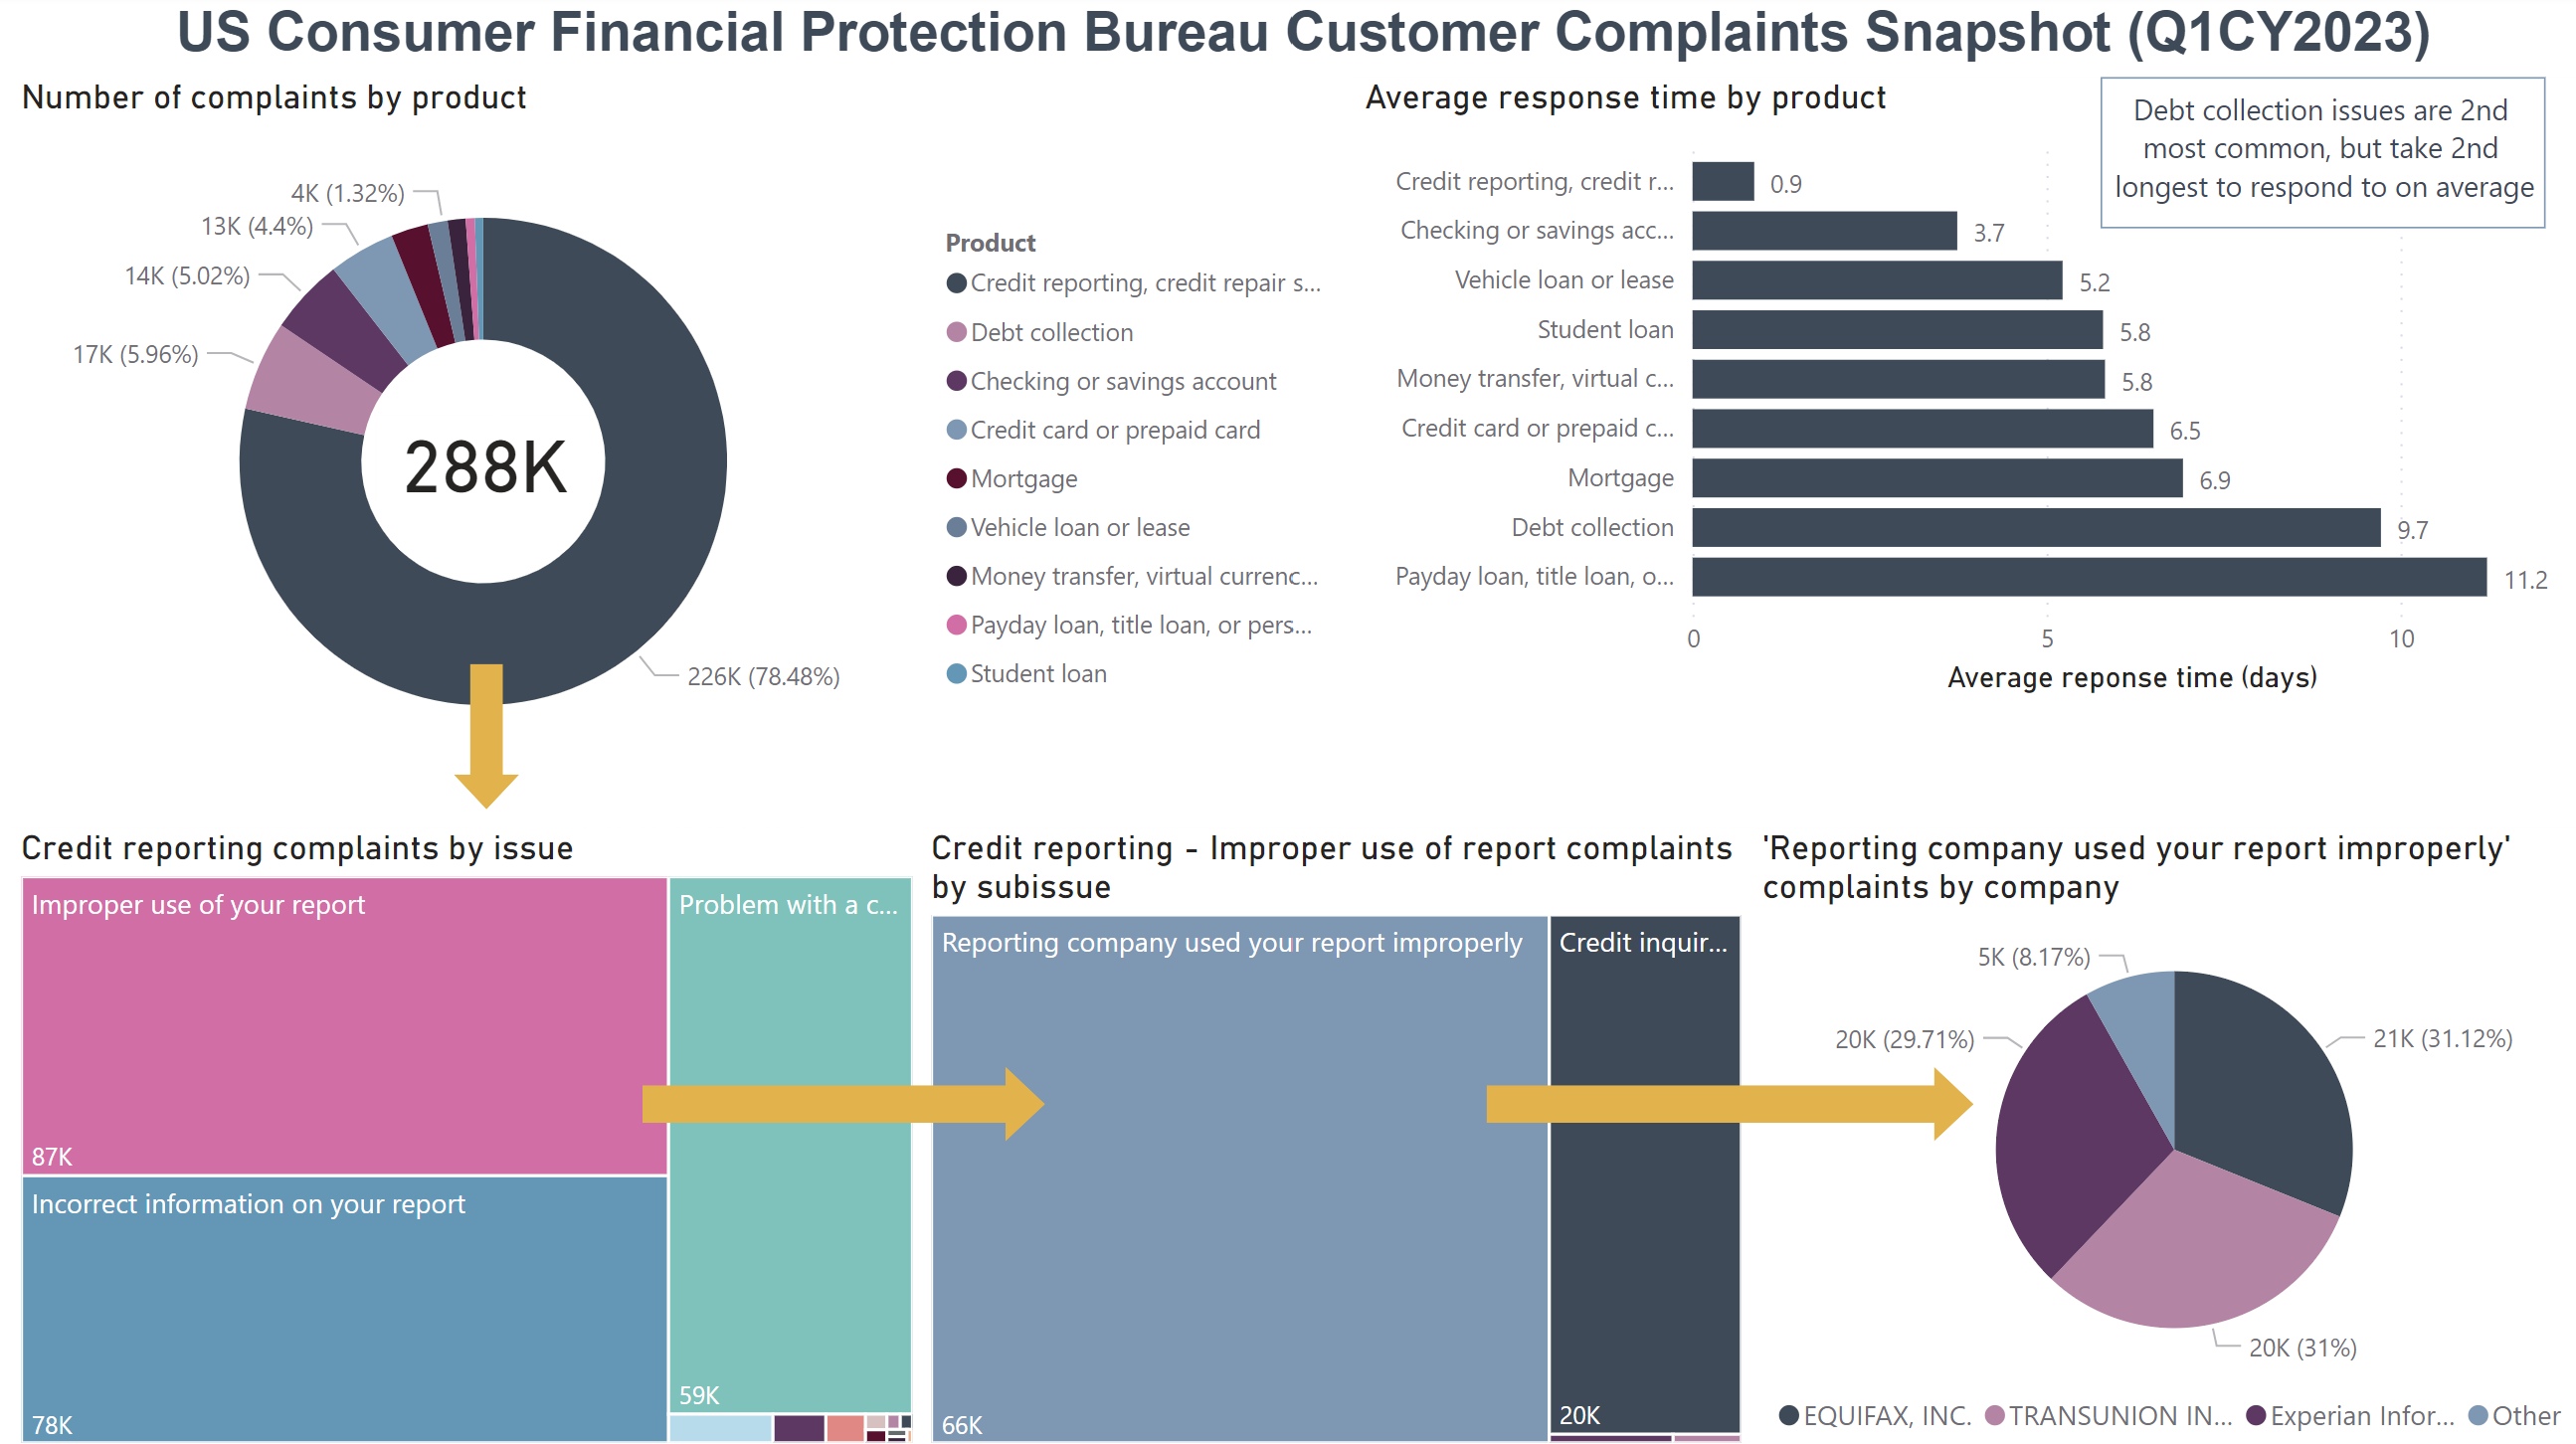

The page's visual inventory and layout, read from the dashboard file:
{"tool":"powerbi","page":{"name":"Page 1","canvas":[1280,720],"ordinal":0},"visuals":[{"type":"donutChart","title":"Number of complaints by product","fields":{"Category":["complaints_by_product.product"],"Y":["Sum(complaints_by_product.num_complaints)"]},"box":[9.5,43.2,660.3,359.2],"z":0},{"type":"textbox","box":[9.5,0,1270.5,43.2],"z":1000},{"type":"card","fields":{"Values":["Sum(complaints_by_product.num_complaints)"]},"box":[189,209.3,106.7,43.2],"z":2000},{"type":"treemap","title":"Credit reporting complaints by issue","fields":{"Group":["creditreporting_complaints_byissue.issue"],"Values":["Sum(creditreporting_complaints_byissue.no_complaints)"]},"box":[9.5,411.8,448.3,307.8],"z":3001},{"type":"shape","box":[226.8,330.8,32.4,71.6],"z":3002},{"type":"clusteredBarChart","title":"Average response time by product","fields":{"Category":["avg_response_time.product"],"Y":["Sum(avg_response_time.avg_response_time)"]},"box":[669.7,43.2,610.3,307.8],"z":3003},{"type":"textbox","box":[1036.6,42.8,218.8,74.6],"z":3004},{"type":"treemap","title":"Credit reporting - Improper use of report complaints by subissue","fields":{"Group":["creditreporting_complaints_bysubissue.subissue"],"Values":["Sum(creditreporting_complaints_bysubissue.no_complaints)"]},"box":[457.7,411.8,407.8,307.8],"z":3005},{"type":"shape","box":[320.3,529.3,198,36.7],"z":3006},{"type":"pieChart","title":"''Reporting company used your report improperly'' complaints by company","fields":{"Y":["Sum(subissue_by_company.no_complaints)"],"Category":["subissue_by_company.company (groups)"]},"box":[865.5,411.8,414.5,307.8],"z":3007},{"type":"shape","box":[734.7,529.3,239.6,36.7],"z":3008}]}

Visuals, with their boxes in screenshot pixels (x1, y1, x2, y2), scaled from the page's 1280x720 canvas onto the 2576x1444 screenshot:
"Number of complaints by product" donutChart: box=[19, 87, 1348, 808]
textbox: box=[19, 0, 2575, 87]
card - Sum(complaints_by_product.num_complaints): box=[380, 420, 595, 506]
"Credit reporting complaints by issue" treemap: box=[19, 825, 921, 1443]
shape: box=[457, 663, 521, 808]
"Average response time by product" clusteredBarChart: box=[1348, 87, 2575, 704]
textbox: box=[2086, 86, 2526, 236]
"Credit reporting - Improper use of report complaints by subissue" treemap: box=[921, 825, 1742, 1443]
shape: box=[644, 1061, 1043, 1135]
"''Reporting company used your report improperly'' complaints by company" pieChart: box=[1742, 825, 2575, 1443]
shape: box=[1479, 1061, 1960, 1135]
